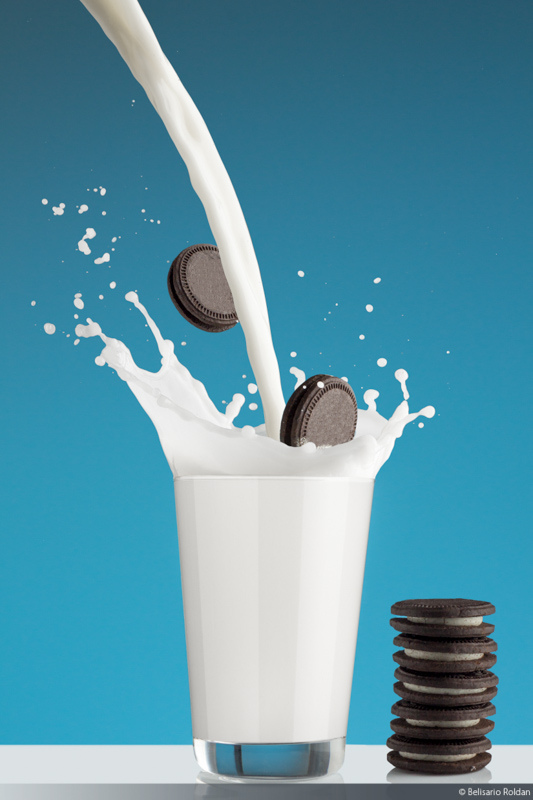glass of milk: (141, 341, 385, 789)
